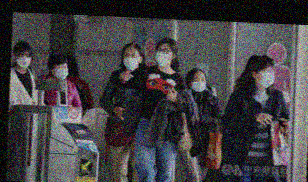with_mask: (258, 66, 276, 90), (154, 45, 172, 68), (122, 51, 140, 72), (52, 64, 70, 81), (190, 75, 207, 93), (15, 52, 31, 69)
